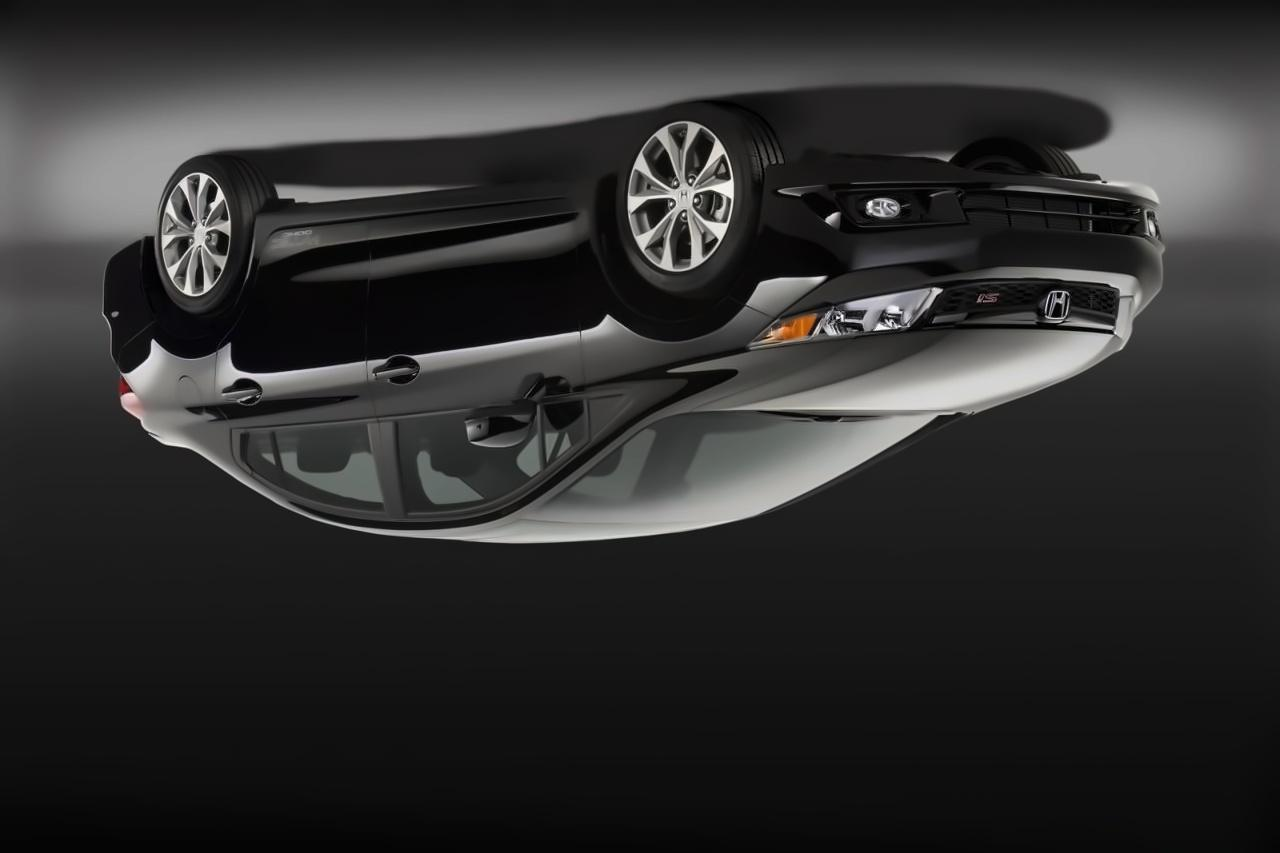Car hood: (690, 323, 1137, 422)
Fender - -F-L-: (580, 176, 773, 417)
Fender - -R-L-: (150, 207, 269, 441)
Front bumper: (732, 142, 1172, 306)
Headlight - -L-: (749, 280, 946, 357)
Headlight - -R-: (1103, 287, 1146, 352)
Passenger-s door - -F-L-: (372, 213, 578, 529)
Passenger-s door - -R-L-: (210, 210, 370, 533)
Rear bumper: (93, 229, 165, 334)
Rear light - -L-: (104, 367, 151, 425)
Side bumper - -L-: (243, 167, 617, 243)
Side mirror - -L-: (462, 370, 578, 455)
